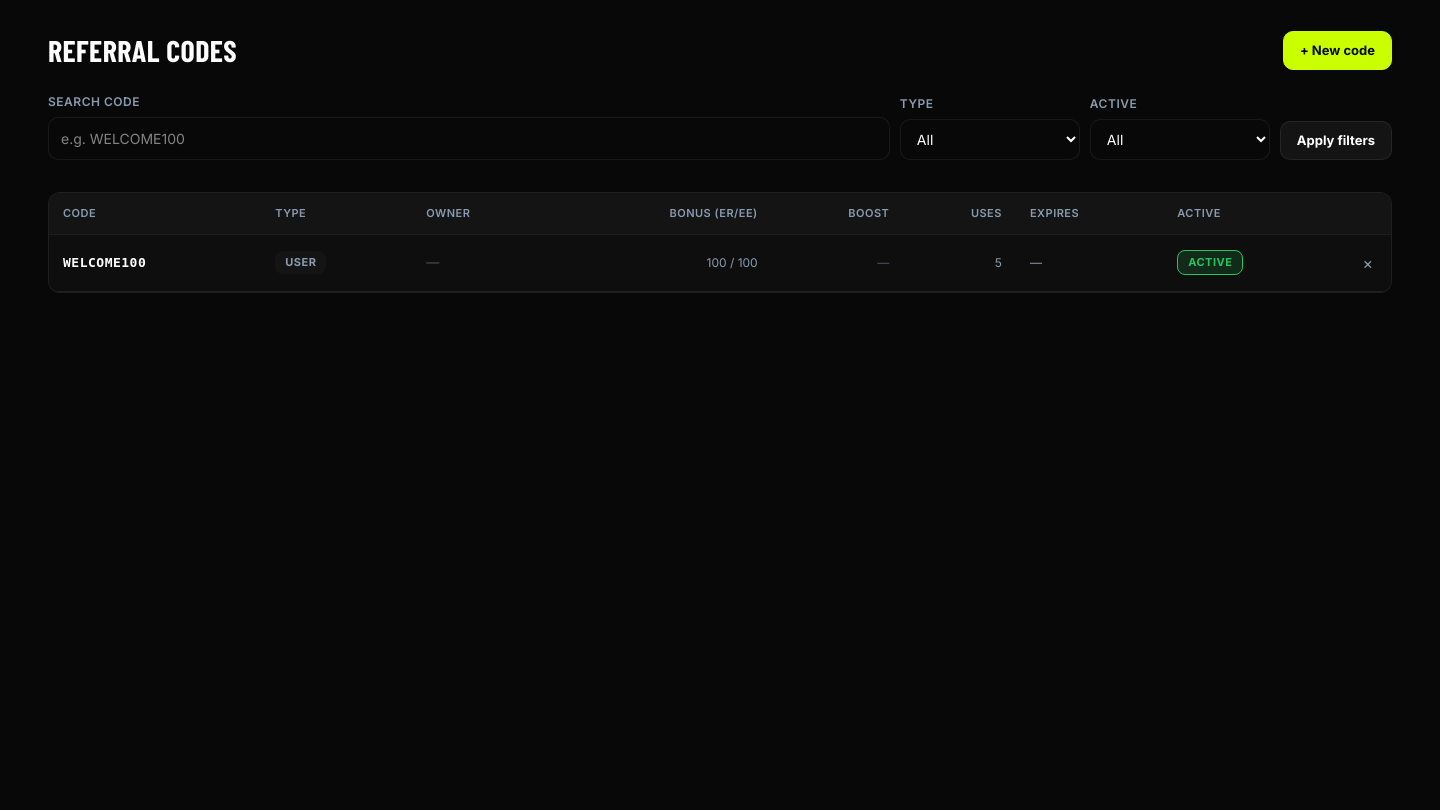
Test case: ReferralCodesPage › opens edit modal with row data + loads conversions
This screenshot has width=1440, height=810.
Step 1. Click the text "WELCOME100" → click(105, 262), box [63,255,146,270]
(page scrolled)
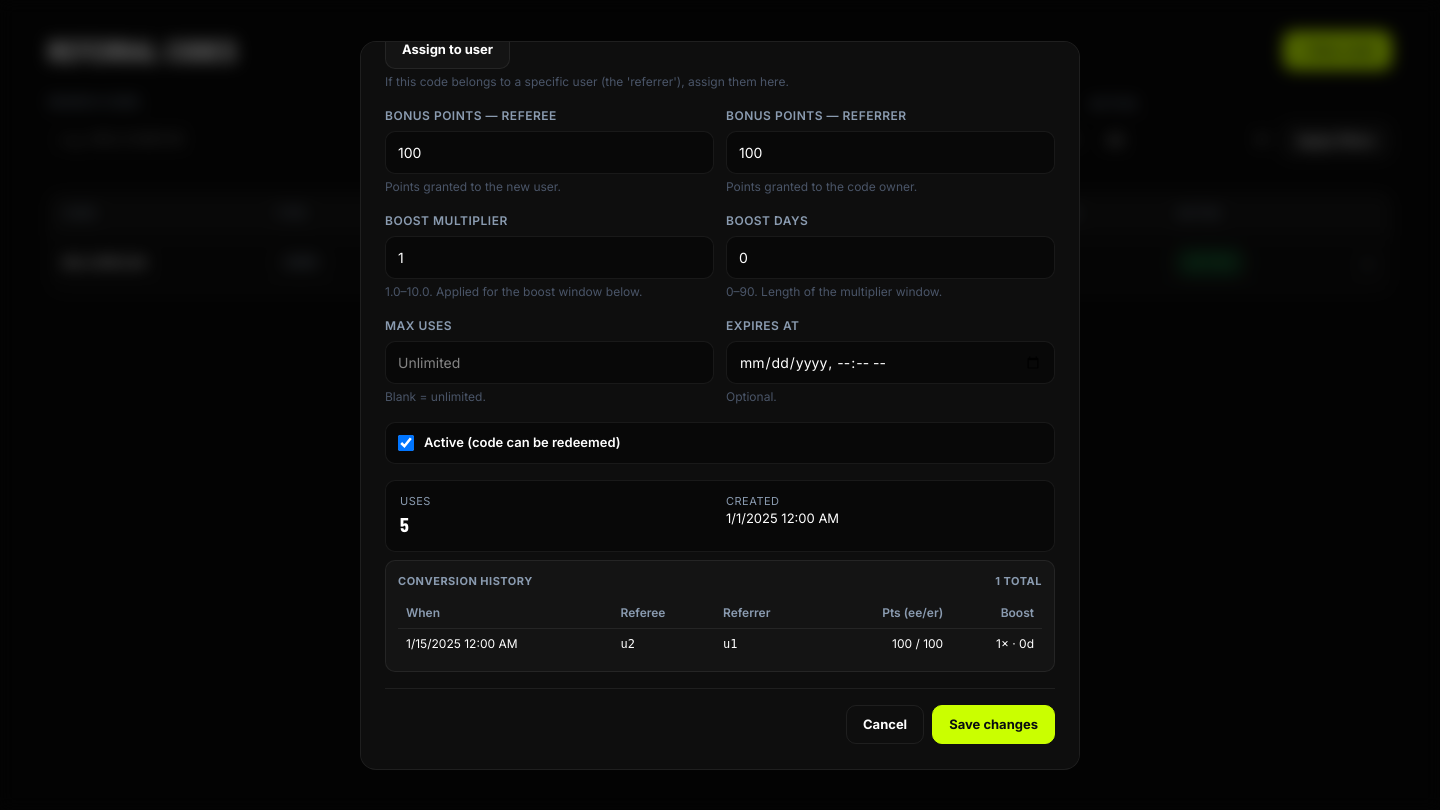
Check: the text "1 total" is shown, box [995,573,1042,590]
